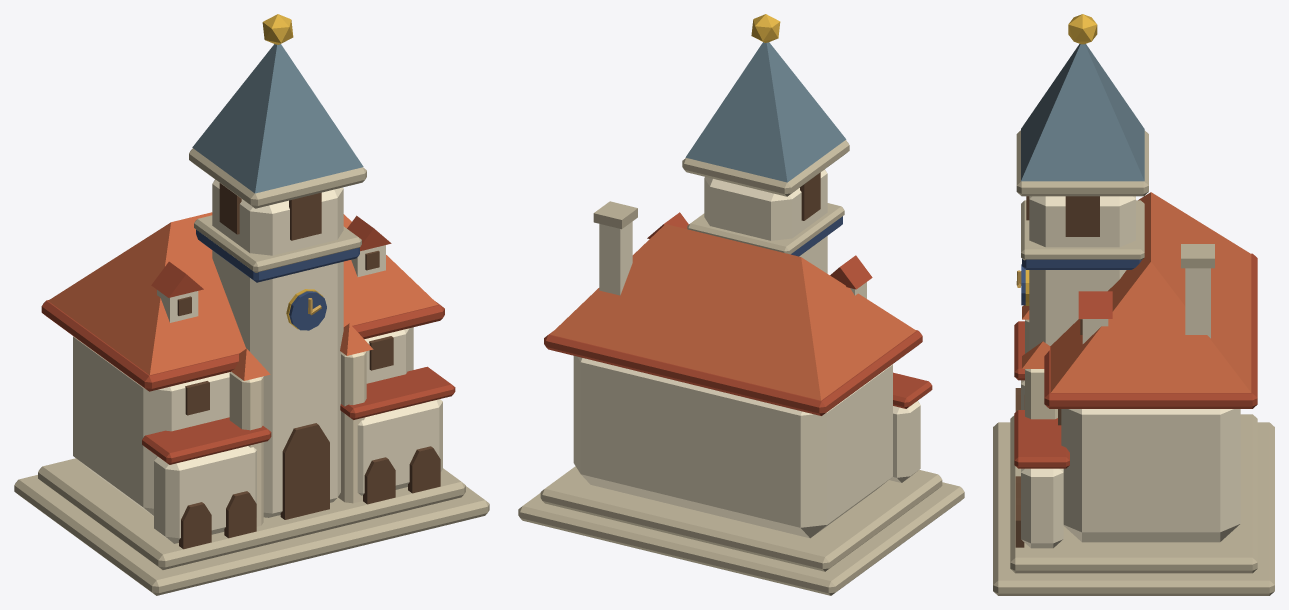
File: ns-hall-3.glb
3 renders of one model, left to right at view 1: azimuth 30°, elevation 25°; view 2: azimuth 150°, elevation 25°; view 3: azimuth 270°, elevation 25°, orthographic. The views are drawn at different scales.
Parts seen in each view (by area): view 1: Cube; view 2: Cube; view 3: Cube.
Part boxes in pixels (box(x1,y1,x2,y2)): Cube: box(14, 14, 489, 595); Cube: box(518, 14, 964, 595); Cube: box(993, 14, 1274, 595).
Bounding box in the file's own units: 0.9 × 1.3 × 0.66.
